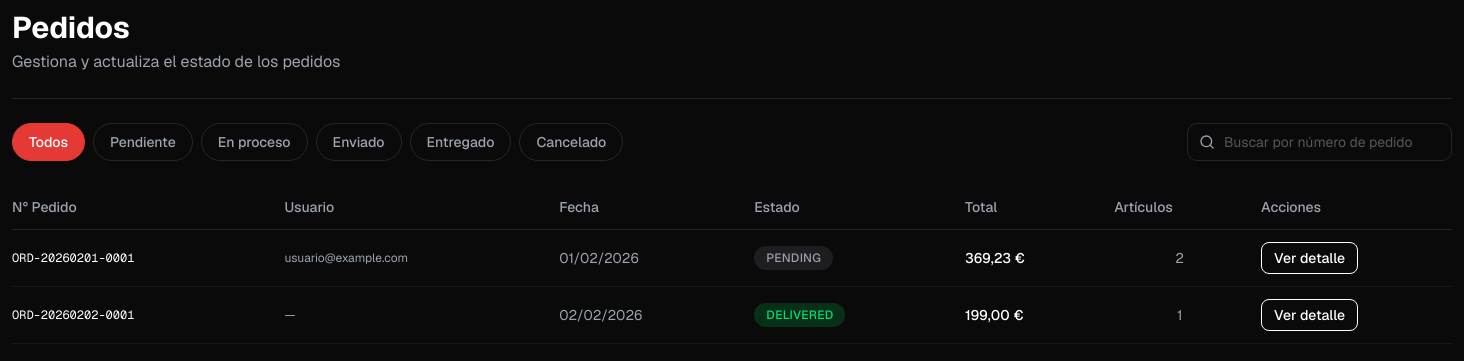
it: OrdersAdminContent › filtros de estado › filtro sin resultados muestra mensaje y enlace para ver todos
The width and height of the screenshot is (1464, 361).
Expected: the text "ORD-20260201-0001" is shown, [12,230,284,286]
What coordinates should you click on to do the following:
click the button "Cancelado"
I would click on:
 (571, 142)
Its box is [519,123,623,161].
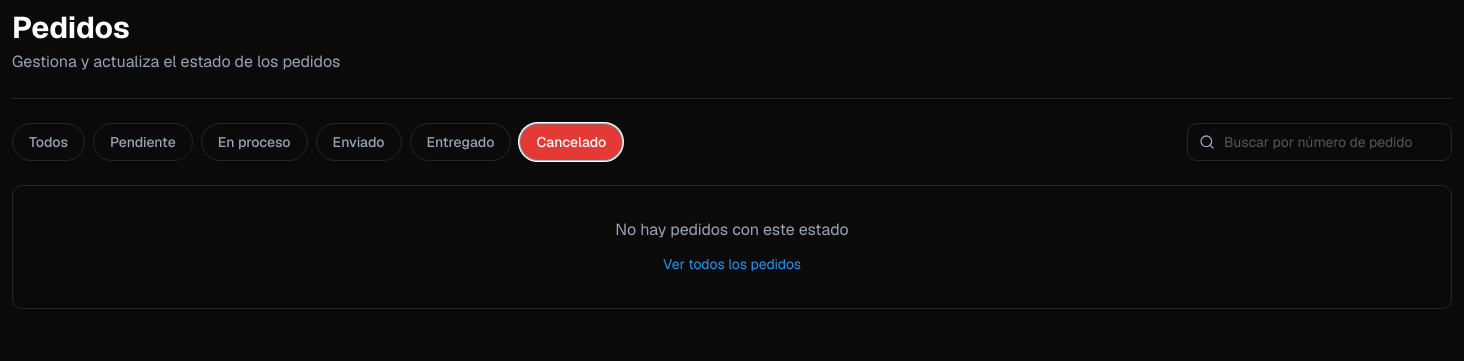
Expected: the text "No hay pedidos con este estado" is shown, [615,219,849,240]
Expected: the button "Ver todos los pedidos" is shown, [663,254,801,274]
